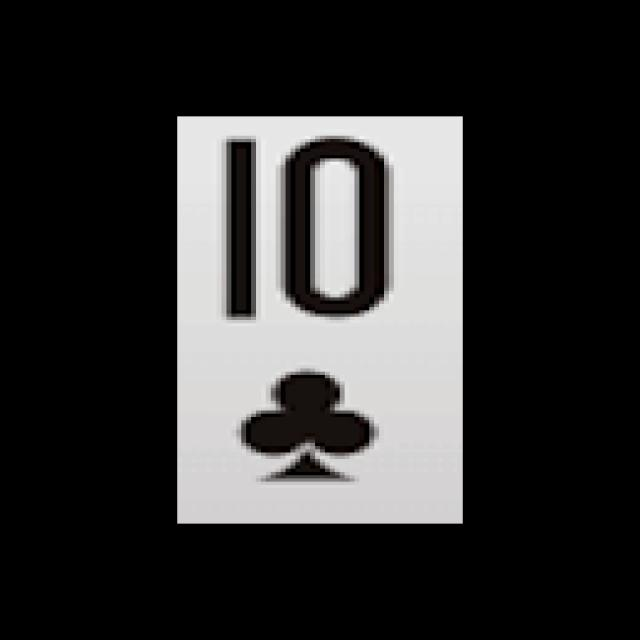10C: (195, 127, 428, 500)
